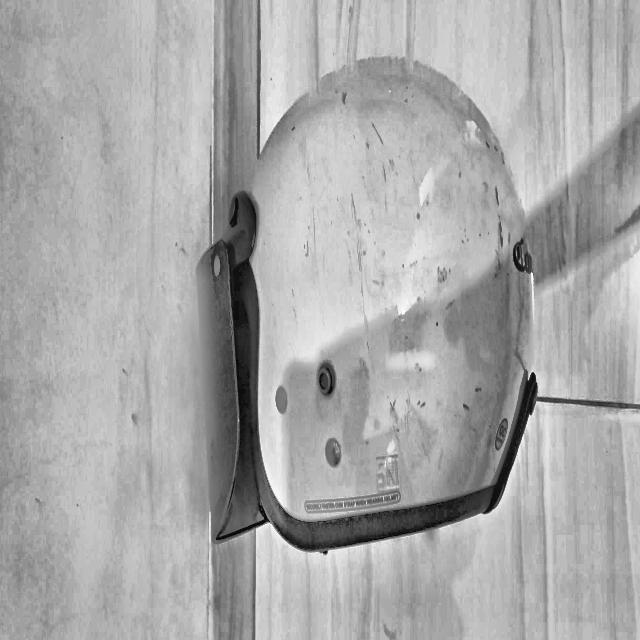Helmet: (38, 336, 344, 640)
